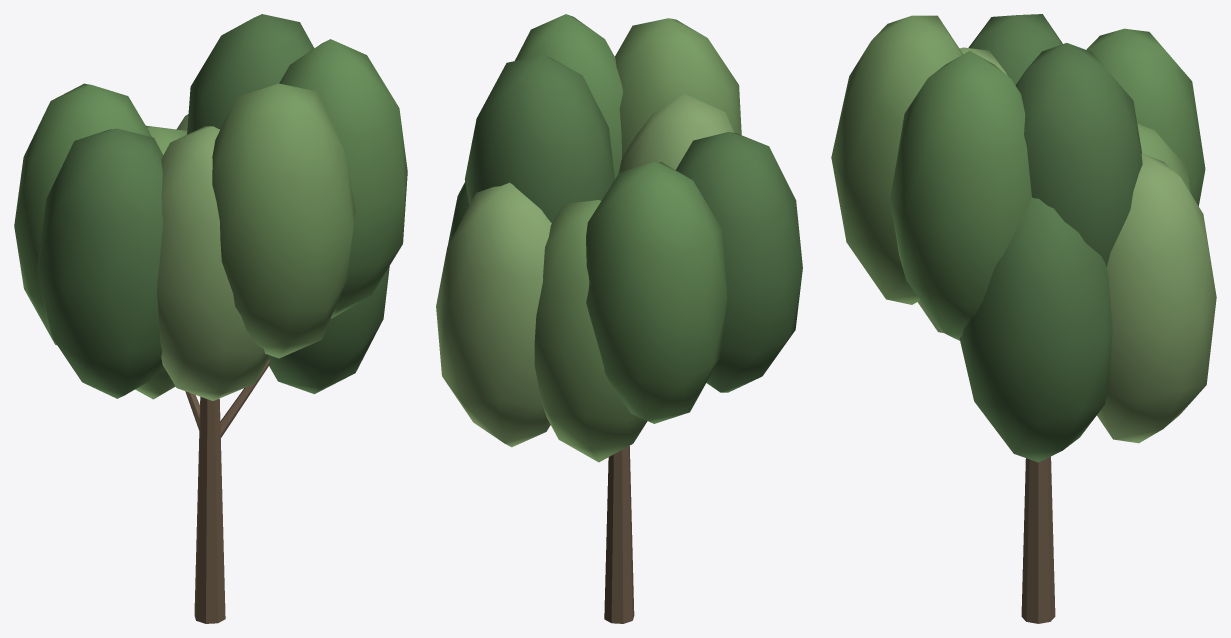
File: pilot-upright-v2.glb
The picture shows the model from 3 angles, left to right: view 1: azimuth 30°, elevation 25°; view 2: azimuth 150°, elevation 25°; view 3: azimuth 270°, elevation 25°; orthographic projection. The views are drawn at different scales.
Visible parts, largest first — view 1: Icosphere.008; view 2: Icosphere.008; view 3: Icosphere.008.
Boxes of the visible parts, box(x1,y1,x2,y2) form: Icosphere.008: box(14, 14, 407, 623); Icosphere.008: box(436, 14, 802, 623); Icosphere.008: box(831, 14, 1216, 623).
Bounding box in the file's own units: 4.92 × 8 × 4.57.
